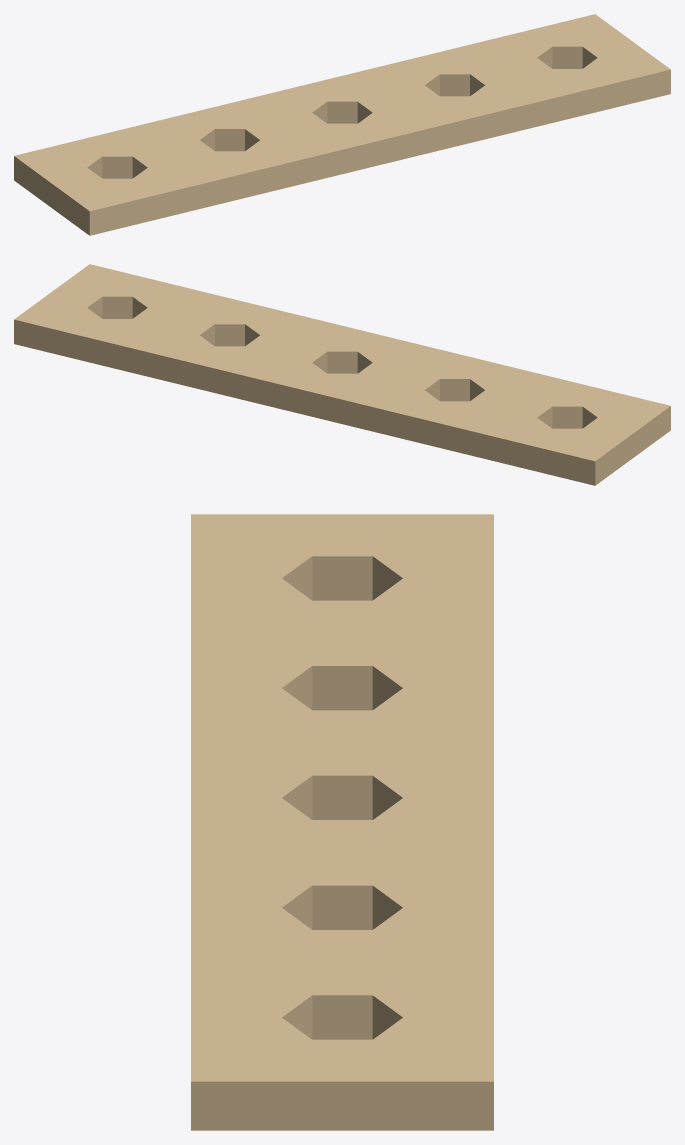
The model's file is prop-pipe-rack-blank.fbx.
3 renders of one model, top to bottom at view 1: azimuth 30°, elevation 25°; view 2: azimuth 150°, elevation 25°; view 3: azimuth 270°, elevation 25°, orthographic. The views are drawn at different scales.
Parts seen in each view (by area): view 1: prop-pipe-rack-blank; view 2: prop-pipe-rack-blank; view 3: prop-pipe-rack-blank.
Boxes of the visible parts, box(x1,y1,x2,y2) form: prop-pipe-rack-blank: box(14, 14, 670, 235); prop-pipe-rack-blank: box(14, 264, 670, 485); prop-pipe-rack-blank: box(191, 514, 493, 1130).
Size of the model in its own units: 62 by 2.5 by 14.
